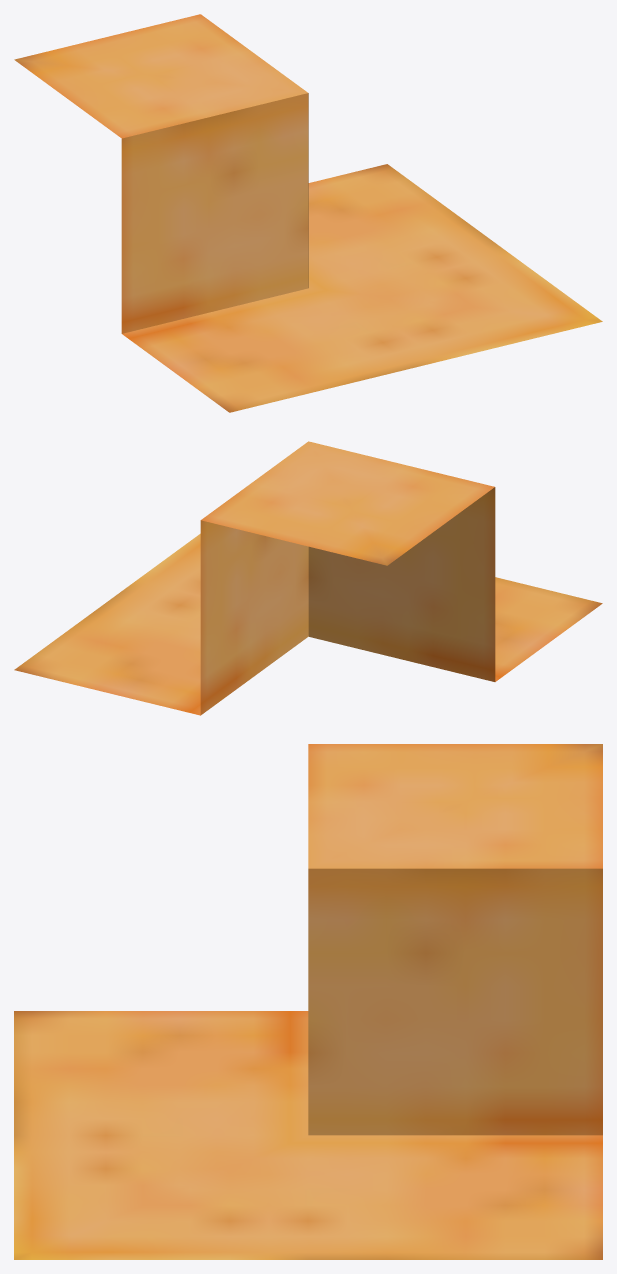
Rendered from geo_stepCornerOpen.fbx.
3 renders of one model, top to bottom at view 1: azimuth 30°, elevation 25°; view 2: azimuth 150°, elevation 25°; view 3: azimuth 270°, elevation 25°, orthographic. The views are drawn at different scales.
Parts seen in each view (by area): view 1: geo_stepCornerOpen; view 2: geo_stepCornerOpen; view 3: geo_stepCornerOpen.
Part boxes in pixels (<box>): geo_stepCornerOpen: <box>14,14,602,412</box>; geo_stepCornerOpen: <box>14,441,602,715</box>; geo_stepCornerOpen: <box>14,744,602,1259</box>.
Size of the model in its own units: 2 by 1 by 2.
Materials: 1 (1 with a texture image).
